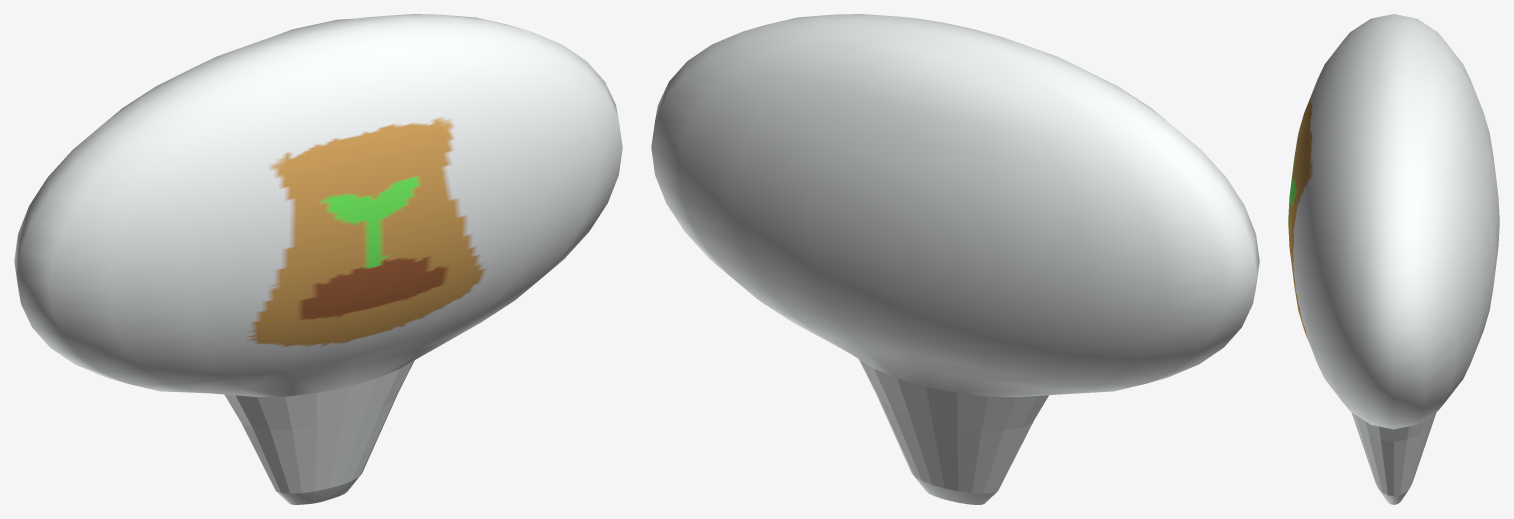
Rendered from fertilizerIndicator.fbx.
3 renders of one model, left to right at view 1: azimuth 30°, elevation 25°; view 2: azimuth 150°, elevation 25°; view 3: azimuth 270°, elevation 25°, orthographic. The views are drawn at different scales.
Visible parts, largest first — view 1: pSphere1; view 2: pSphere1; view 3: pSphere1.
Part boxes in pixels (x1,y1,x2,y2): pSphere1: [14, 14, 622, 504]; pSphere1: [651, 14, 1259, 504]; pSphere1: [1288, 14, 1499, 504].
Bounding box in the file's own units: 3.69 × 2.73 × 1.21.
Materials: 1 (1 with a texture image).
